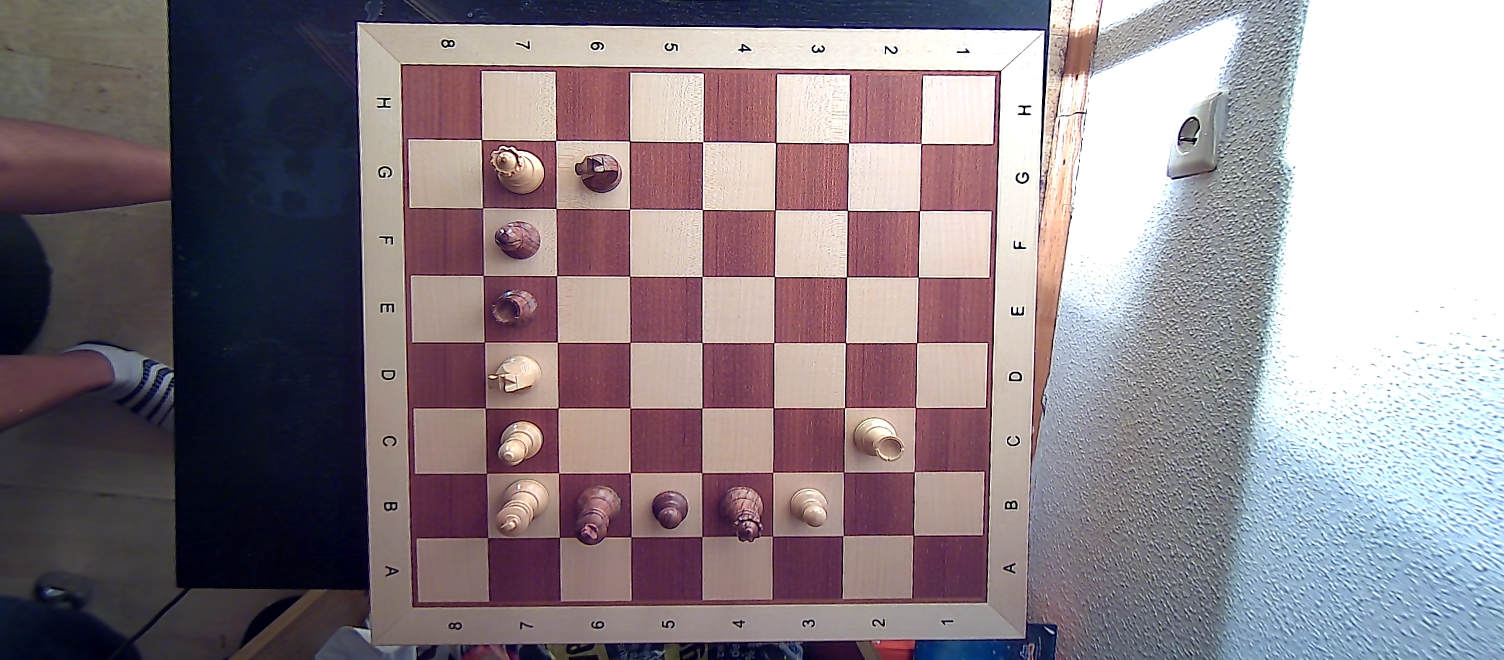black-bishop: (491, 215, 545, 264)
black-king: (569, 481, 625, 549)
black-knight: (569, 151, 627, 197)
black-pawn: (648, 487, 688, 531)
black-queen: (719, 483, 768, 544)
black-rook: (487, 285, 539, 331)
white-bishop: (495, 419, 545, 467)
white-king: (494, 477, 551, 539)
white-knight: (488, 353, 542, 395)
white-pawn: (785, 482, 831, 529)
white-queen: (487, 142, 545, 196)
white-rook: (848, 416, 907, 468)
